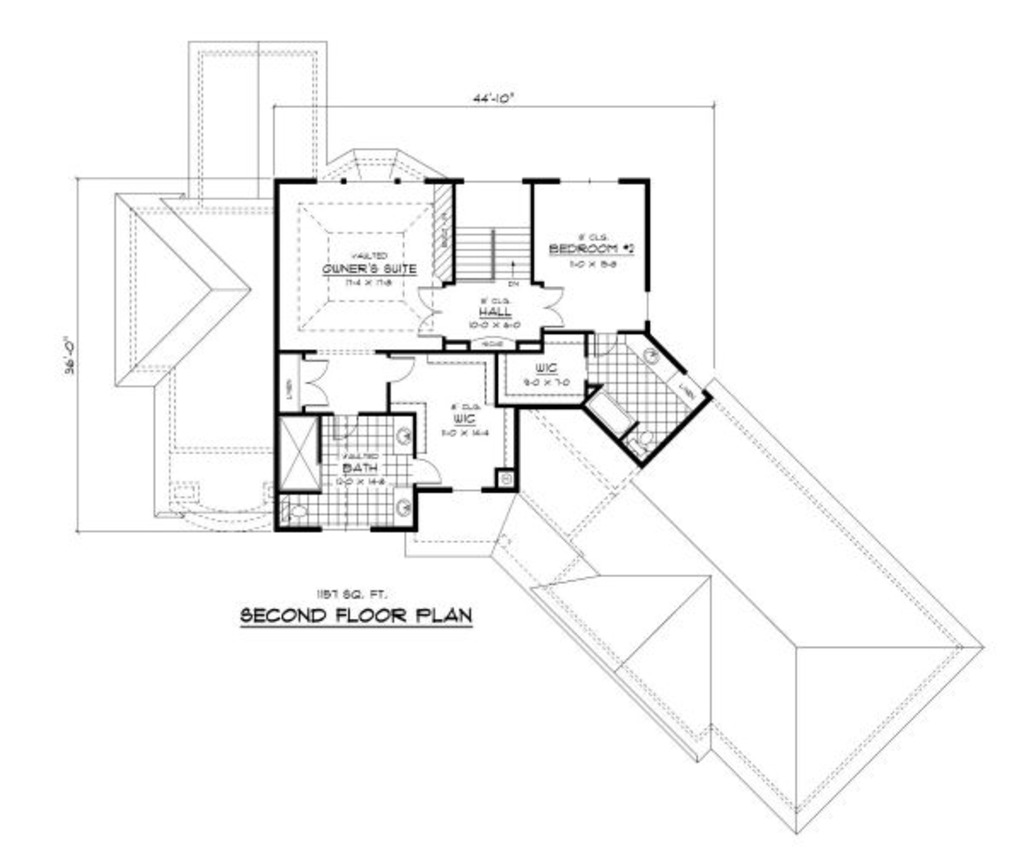door: (410, 281, 443, 341), (534, 283, 570, 331), (298, 355, 328, 409), (406, 454, 443, 487), (386, 357, 416, 382)
small_sink: (627, 335, 686, 376), (386, 485, 417, 529), (391, 416, 424, 456)
stairs: (451, 219, 532, 287)
tub: (588, 392, 638, 437)
windows: (313, 175, 428, 189), (552, 175, 622, 188), (319, 521, 382, 534)
